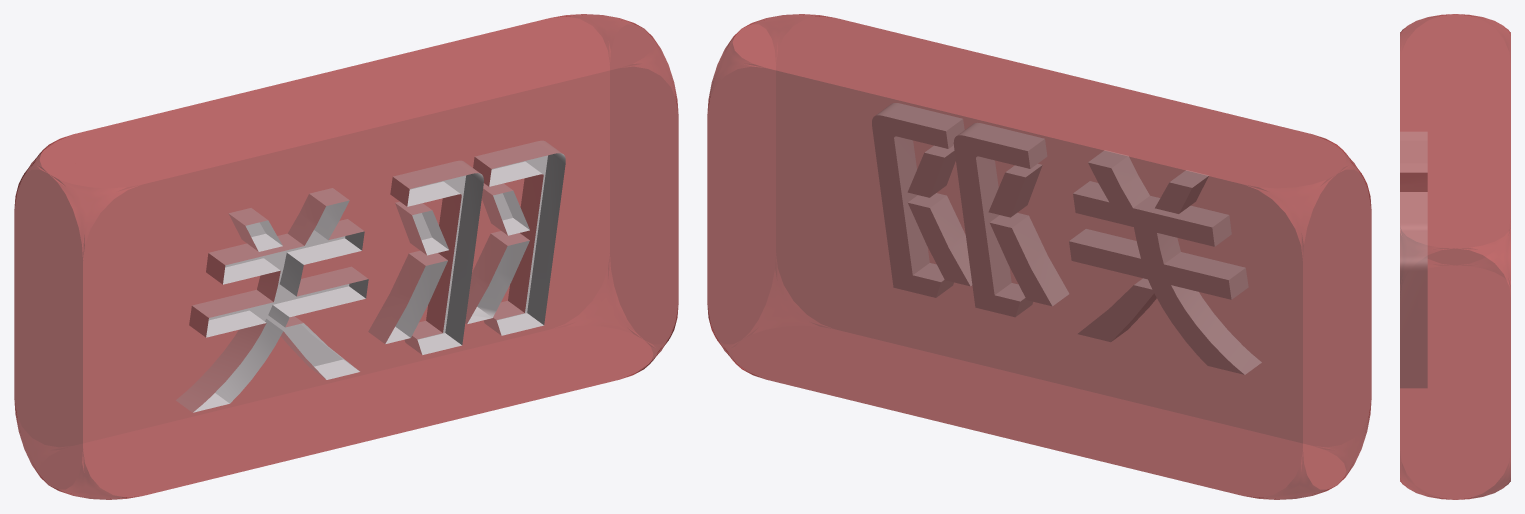
Rendered from guanyu.gltf.
3 renders of one model, left to right at view 1: azimuth 30°, elevation 25°; view 2: azimuth 150°, elevation 25°; view 3: azimuth 270°, elevation 25°, orthographic. The views are drawn at different scales.
Parts seen in each view (by area): view 1: g, 羽, 关; view 2: g, 羽, 关; view 3: g, 羽, 关.
Boxes of the visible parts, x1=… form: g: x1=14, y1=14, x2=678, y2=499; 羽: x1=368, y1=140, x2=565, y2=354; 关: x1=176, y1=188, x2=368, y2=412; g: x1=707, y1=14, x2=1371, y2=499; 羽: x1=872, y1=103, x2=1068, y2=316; 关: x1=1069, y1=150, x2=1261, y2=374; g: x1=1400, y1=14, x2=1510, y2=499; 羽: x1=1400, y1=199, x2=1427, y2=388; 关: x1=1400, y1=131, x2=1427, y2=198.
Size of the model in its own units: 400 by 200 by 80.
